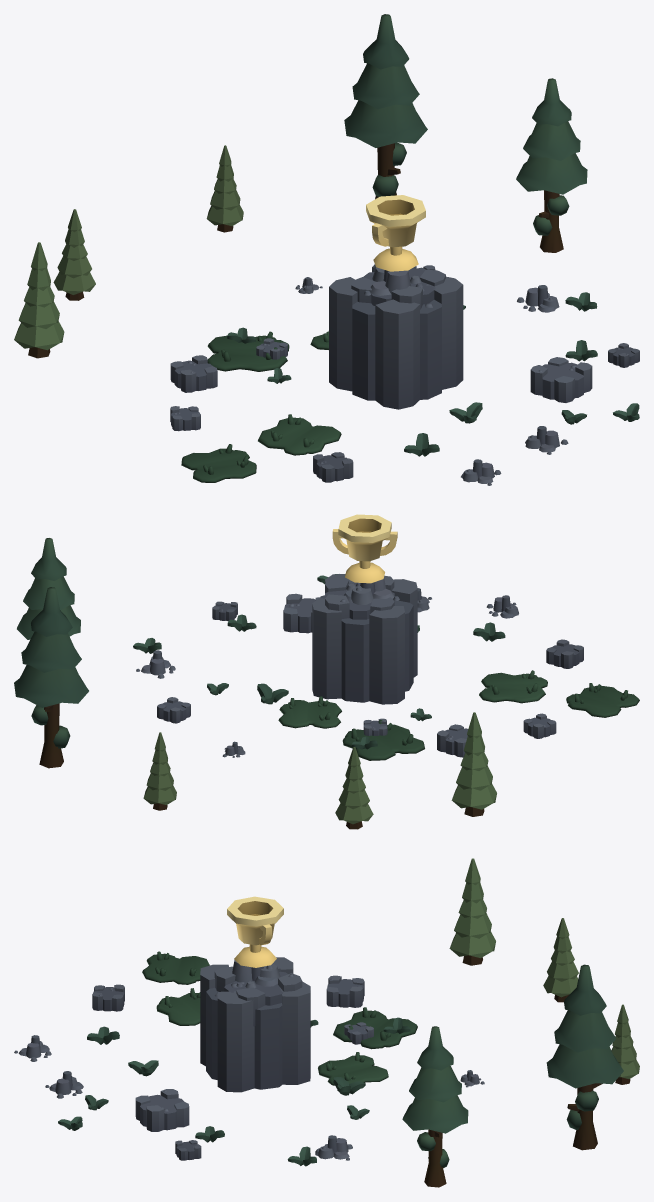
Rendered from award-scene.glb.
The picture shows the model from 3 angles, top to bottom: view 1: azimuth 30°, elevation 25°; view 2: azimuth 150°, elevation 25°; view 3: azimuth 270°, elevation 25°; orthographic projection. The views are drawn at different scales.
Parts seen in each view (by area): view 1: p0|1,1,1, p7|0.7,0.7,0.7, p7|0.85,0.85,0.8, p5|0.95,0.95,0.95 (×2), p3|1.2,1.2,1.2, p6|0.8,0.8,0.8, p1|1.15,1.15,1.15, p5|1.1,1.1,1.1, p1|1.1,1.1,1.1 (×2), p6|0.75,0.7,0.7, p1|1.05,1.05,1.05, p6|0.7,0.65,0.65 (+4 smaller); view 2: p0|1,1,1, p7|0.7,0.7,0.7, p5|0.95,0.95,0.95 (×2), p5|1.1,1.1,1.1 (×2), p3|1.2,1.2,1.2, p7|0.85,0.85,0.8, p6|0.8,0.8,0.8, p1|1.1,1.1,1.1 (×3), p6|0.75,0.7,0.7, p1|1.05,1.05,1.05, p6|0.7,0.65,0.65, p1|0.95,0.95,0.95 (×2) (+4 smaller); view 3: p0|1,1,1, p7|0.7,0.7,0.7, p7|0.85,0.85,0.8, p5|0.95,0.95,0.95 (×2), p3|1.2,1.2,1.2, p6|0.8,0.8,0.8, p5|1.1,1.1,1.1 (×2), p1|1.15,1.15,1.15, p1|1.05,1.05,1.05, p6|0.75,0.7,0.7, p1|1.1,1.1,1.1 (×2), p1|0.95,0.95,0.95 (×2) (+5 smaller).
Boxes of the visible parts, x1,y1,x2,y2 form: p0|1,1,1: [329, 265, 463, 409]; p7|0.7,0.7,0.7: [344, 14, 427, 199]; p7|0.85,0.85,0.8: [516, 78, 587, 252]; p5|0.95,0.95,0.95 (×2): [181, 331, 289, 482]; p3|1.2,1.2,1.2: [366, 195, 425, 271]; p6|0.8,0.8,0.8: [14, 242, 64, 358]; p1|1.15,1.15,1.15: [530, 357, 592, 402]; p5|1.1,1.1,1.1: [258, 414, 341, 455]; p1|1.1,1.1,1.1 (×2): [170, 355, 217, 431]; p6|0.75,0.7,0.7: [53, 209, 95, 300]; p1|1.05,1.05,1.05: [351, 264, 445, 309]; p6|0.7,0.65,0.65: [206, 145, 243, 232]; p0|1,1,1: [312, 574, 417, 704]; p7|0.7,0.7,0.7: [14, 587, 88, 768]; p5|0.95,0.95,0.95 (×2): [342, 683, 639, 760]; p5|1.1,1.1,1.1 (×2): [278, 670, 547, 728]; p3|1.2,1.2,1.2: [332, 514, 397, 583]; p7|0.85,0.85,0.8: [17, 538, 80, 639]; p6|0.8,0.8,0.8: [451, 712, 496, 816]; p1|1.1,1.1,1.1 (×3): [157, 697, 556, 757]; p6|0.75,0.7,0.7: [335, 747, 373, 829]; p1|1.05,1.05,1.05: [325, 575, 394, 619]; p6|0.7,0.65,0.65: [143, 732, 176, 810]; p1|0.95,0.95,0.95 (×2): [212, 601, 583, 668]; p0|1,1,1: [200, 957, 310, 1092]; p7|0.7,0.7,0.7: [546, 964, 623, 1150]; p7|0.85,0.85,0.8: [402, 1026, 468, 1187]; p5|0.95,0.95,0.95 (×2): [142, 951, 417, 1049]; p3|1.2,1.2,1.2: [227, 896, 283, 967]; p6|0.8,0.8,0.8: [449, 858, 495, 965]; p5|1.1,1.1,1.1 (×2): [156, 988, 388, 1085]; p1|1.15,1.15,1.15: [135, 1089, 189, 1131]; p1|1.05,1.05,1.05: [214, 962, 302, 1026]; p6|0.75,0.7,0.7: [543, 918, 578, 1002]; p1|1.1,1.1,1.1 (×2): [326, 975, 373, 1044]; p1|0.95,0.95,0.95 (×2): [92, 984, 201, 1160].
Size of the model in its own units: 7.78 by 2.63 by 8.35.
